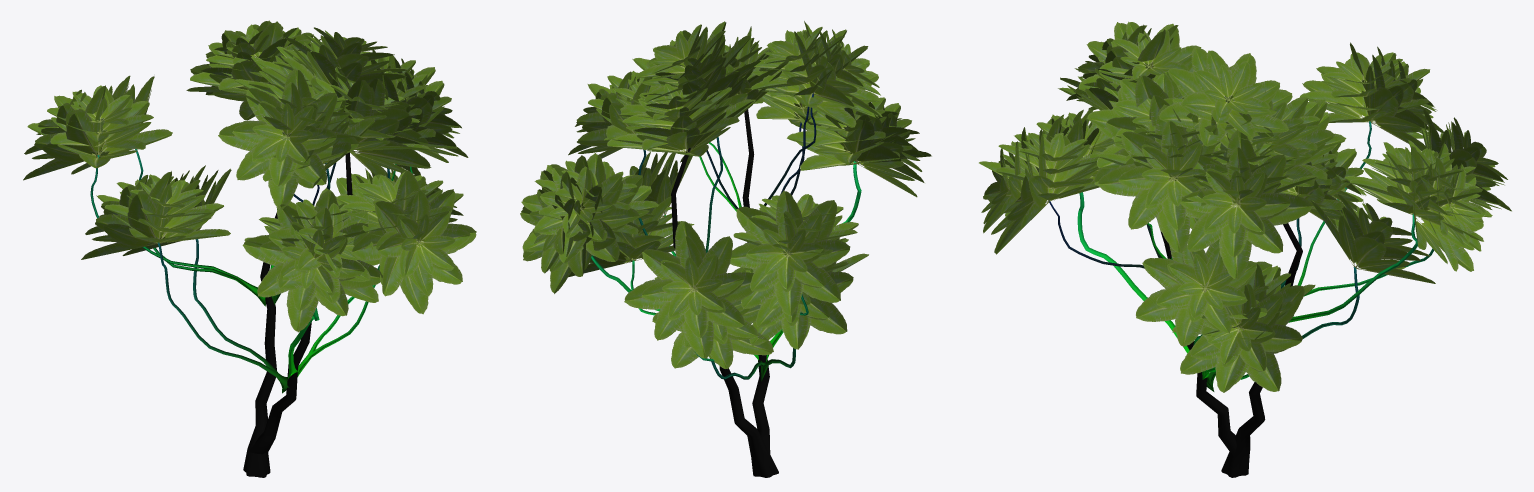
File: champa2.fbx
3 renders of one model, left to right at view 1: azimuth 30°, elevation 25°; view 2: azimuth 150°, elevation 25°; view 3: azimuth 270°, elevation 25°, orthographic. The views are drawn at different scales.
Parts seen in each view (by area): view 1: champa_LOD0; view 2: champa_LOD0; view 3: champa_LOD0.
Part boxes in pixels (<box>): champa_LOD0: <box>23,20,476,477</box>; champa_LOD0: <box>520,21,931,477</box>; champa_LOD0: <box>979,21,1511,477</box>.
Size of what is drawn, in the model's own units: 399 by 462 by 508.
